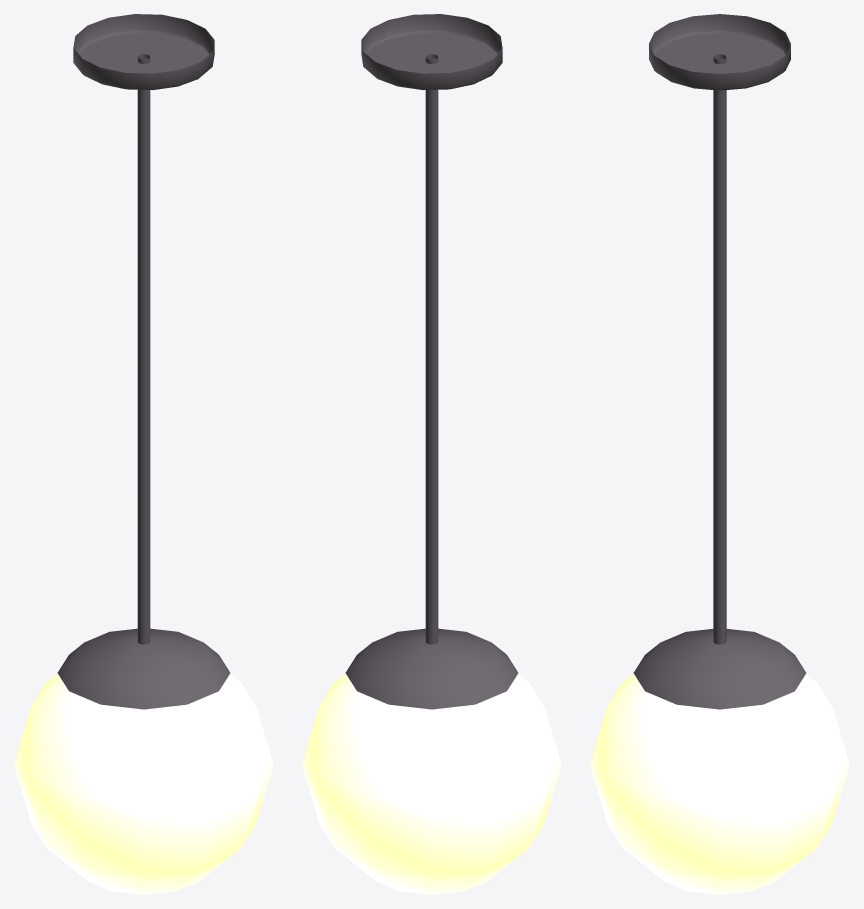
File: SM_lamp_hanging_02.fbx
3 views of the same model, side by side, from view 1: azimuth 30°, elevation 25°; view 2: azimuth 150°, elevation 25°; view 3: azimuth 270°, elevation 25° (orthographic).
Parts seen in each view (by area): view 1: lamp_hanging_02; view 2: lamp_hanging_02; view 3: lamp_hanging_02.
Boxes of the visible parts, x1,y1,x2,y2 form: lamp_hanging_02: [14, 14, 273, 894]; lamp_hanging_02: [302, 14, 561, 894]; lamp_hanging_02: [590, 14, 849, 894].
Size of the model in its own units: 30.94 by 110 by 30.94.
